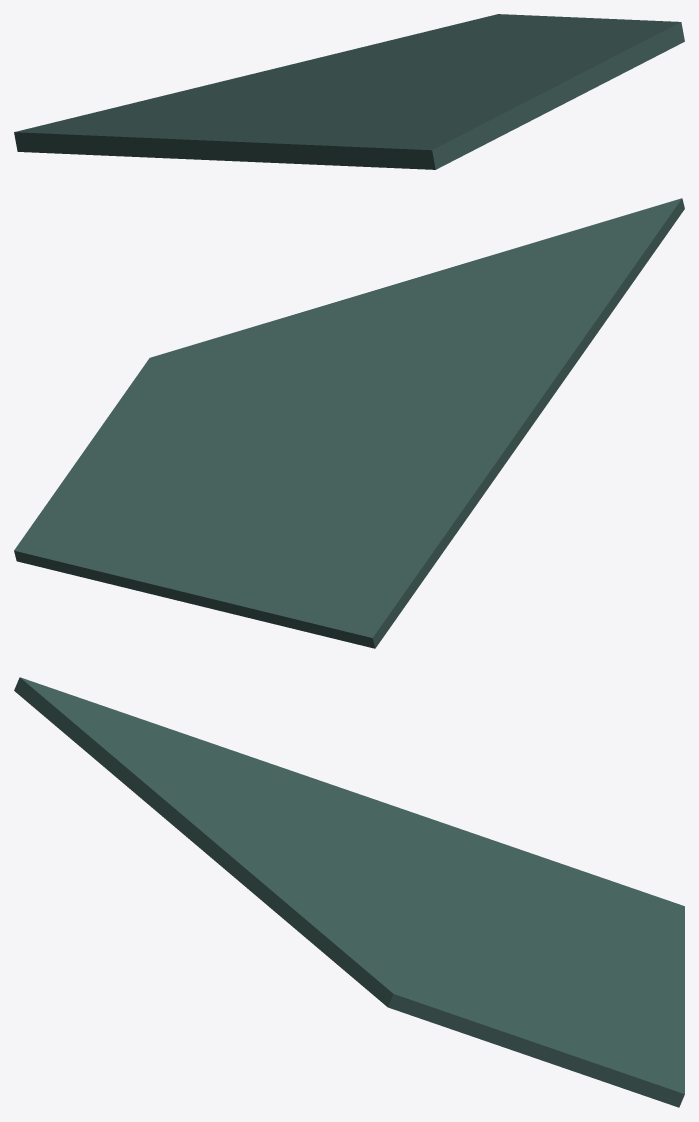
The picture shows the model from 3 angles, top to bottom: view 1: azimuth 30°, elevation 25°; view 2: azimuth 150°, elevation 25°; view 3: azimuth 270°, elevation 25°; orthographic projection. The views are drawn at different scales.
Visible parts, largest first — view 1: A-ROOF-4-1; view 2: A-ROOF-4-1; view 3: A-ROOF-4-1.
Boxes of the visible parts, x1=… form: A-ROOF-4-1: x1=14, y1=14, x2=684, y2=169; A-ROOF-4-1: x1=14, y1=198, x2=684, y2=648; A-ROOF-4-1: x1=14, y1=677, x2=684, y2=1107.
Bounding box in the file's own units: 2.91 × 1.75 × 4.39.
